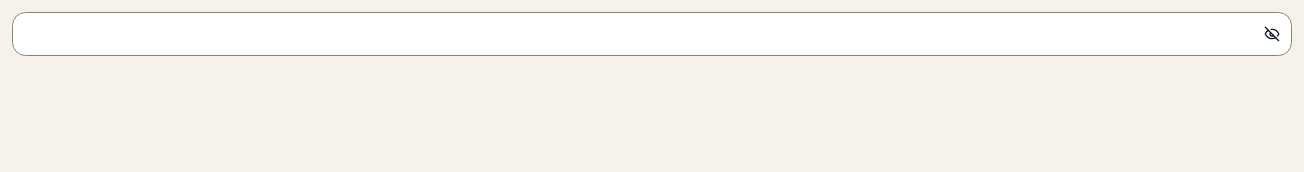
Test case: Password visibility › starts hidden, toggles both ways, and retains the entered value without submitting
In the password field named "Password": (652, 34) [12, 12, 1292, 56], type "entered-value"
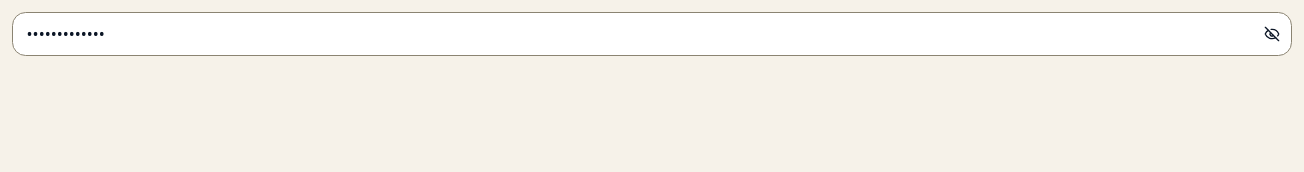
Click the button: (1272, 34) [1254, 16, 1290, 52]
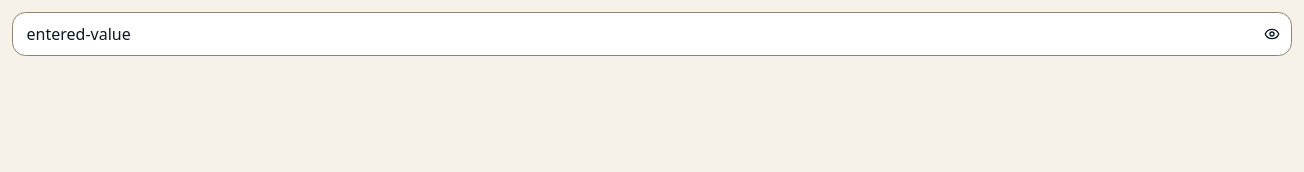
expect the field named "Password" shows its text: met, box [12, 12, 1292, 56]
Click the button: (1272, 34) [1254, 16, 1290, 52]
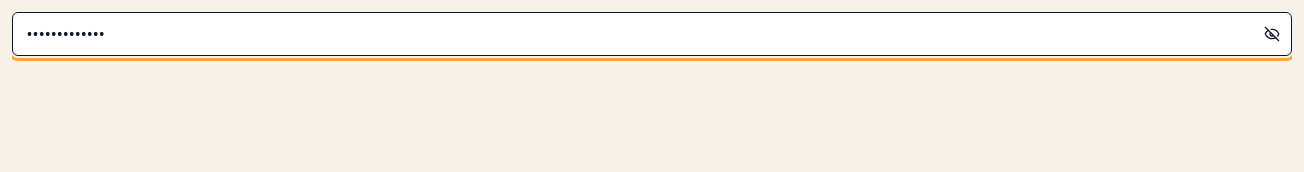
expect the password field named "Password" hides its text: met, box [12, 12, 1292, 56]
